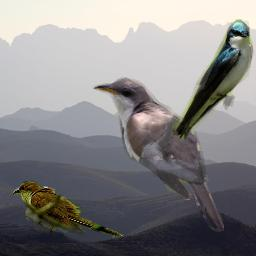Cuckoo: (91, 75, 224, 234), (12, 180, 124, 238)
Swallow: (172, 19, 254, 144)
